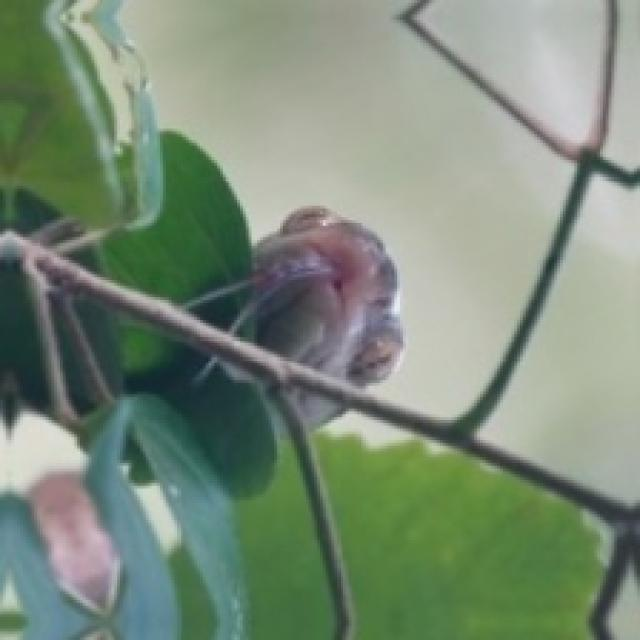dog-toothed cat snake: (251, 206, 403, 383)
